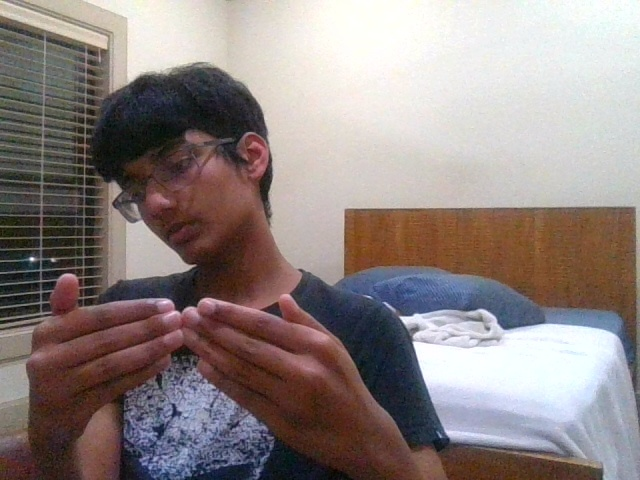thanks: (25, 274, 384, 469)
